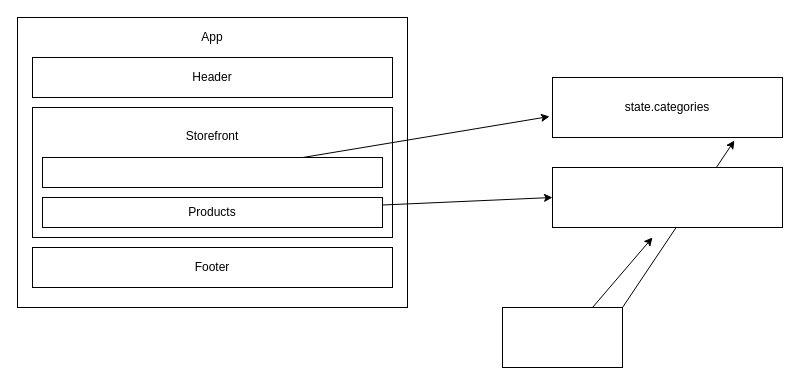
Some shapes in this 800 by 385 pixel diagram are drawn without their labels. Each missing label, with the centre of its shape:
Categories: the point at 212,172
state.products: the point at 667,197
store > index.js: the point at 562,337
